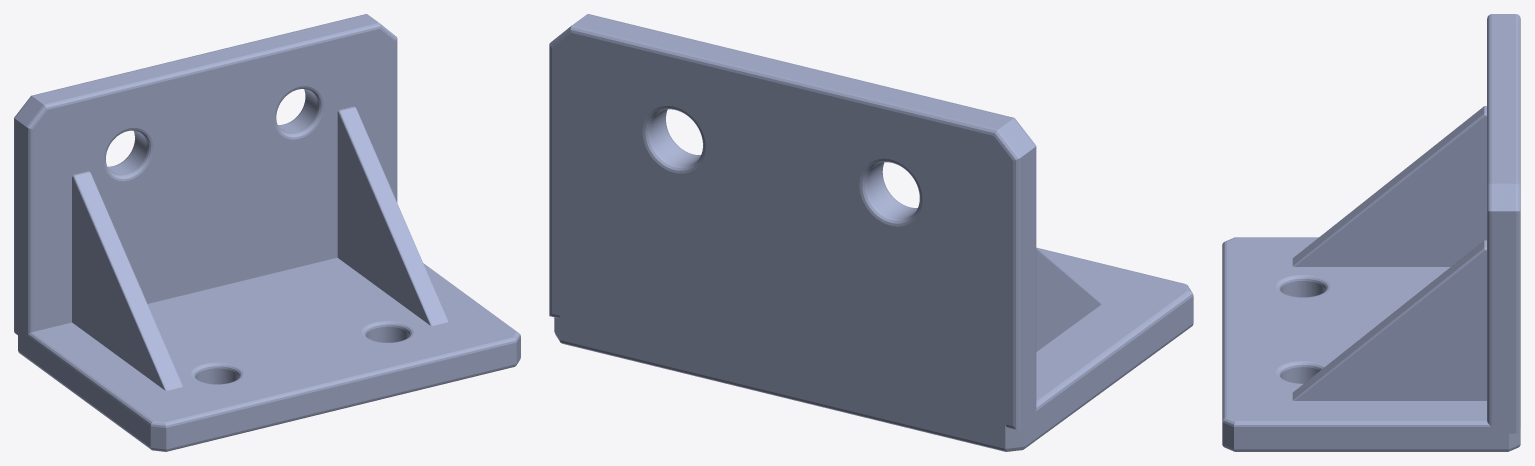
File: mounting-bracket.glb
3 views of the same model, side by side, from view 1: azimuth 30°, elevation 25°; view 2: azimuth 150°, elevation 25°; view 3: azimuth 270°, elevation 25° (orthographic). The views are drawn at different scales.
Visible parts, largest first — view 1: Upright with two mounting holes, Base with two mounting holes, Right gusset, Left gusset; view 2: Upright with two mounting holes, Base with two mounting holes, Left gusset; view 3: Base with two mounting holes, Right gusset, Left gusset, Upright with two mounting holes.
Part boxes in pixels (left/top/right/bottom): Upright with two mounting holes: left=14, top=14, right=397, bottom=341; Base with two mounting holes: left=18, top=257, right=520, bottom=451; Right gusset: left=337, top=106, right=448, bottom=325; Left gusset: left=72, top=171, right=182, bottom=390; Upright with two mounting holes: left=549, top=14, right=1036, bottom=430; Base with two mounting holes: left=554, top=247, right=1193, bottom=451; Left gusset: left=1036, top=248, right=1101, bottom=351; Base with two mounting holes: left=1222, top=237, right=1520, bottom=451; Right gusset: left=1292, top=240, right=1486, bottom=400; Left gusset: left=1292, top=106, right=1486, bottom=266; Upright with two mounting holes: left=1487, top=14, right=1520, bottom=433.
Size of the model in its own units: 3.43 by 2.23 by 2.31.
